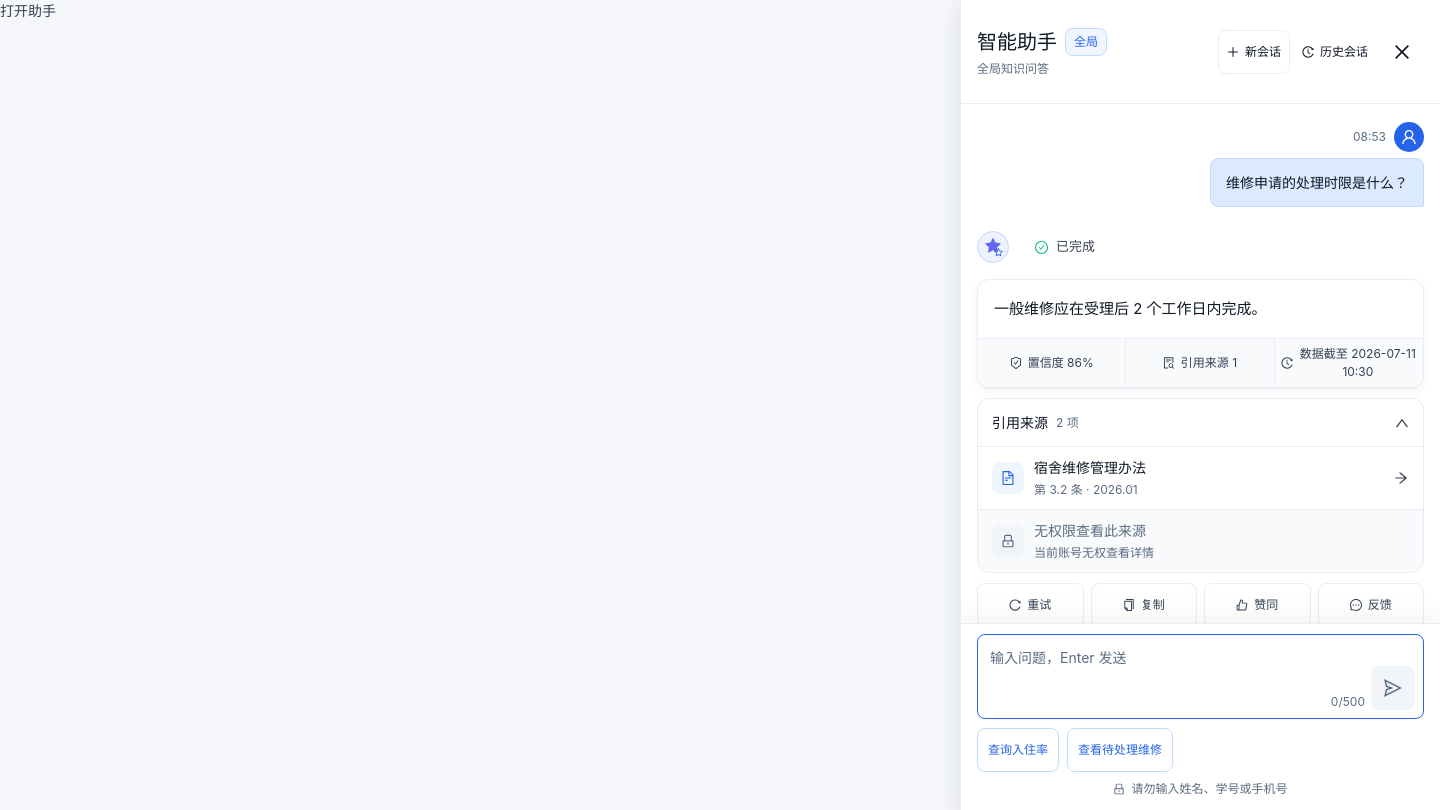
Test case: AiAssistantHost › 引用来源可折叠，拒绝来源不泄露正文
The width and height of the screenshot is (1440, 810).
Expected: the list named "引用来源列表" shows "无权限查看此来源", [1034,522,1146,539]
Expected: the element with class "citation-row--denied" does not show "2026.01"
Click the button with aria-label "收起引用来源" at (1020, 423), box [992,400,1409,446]
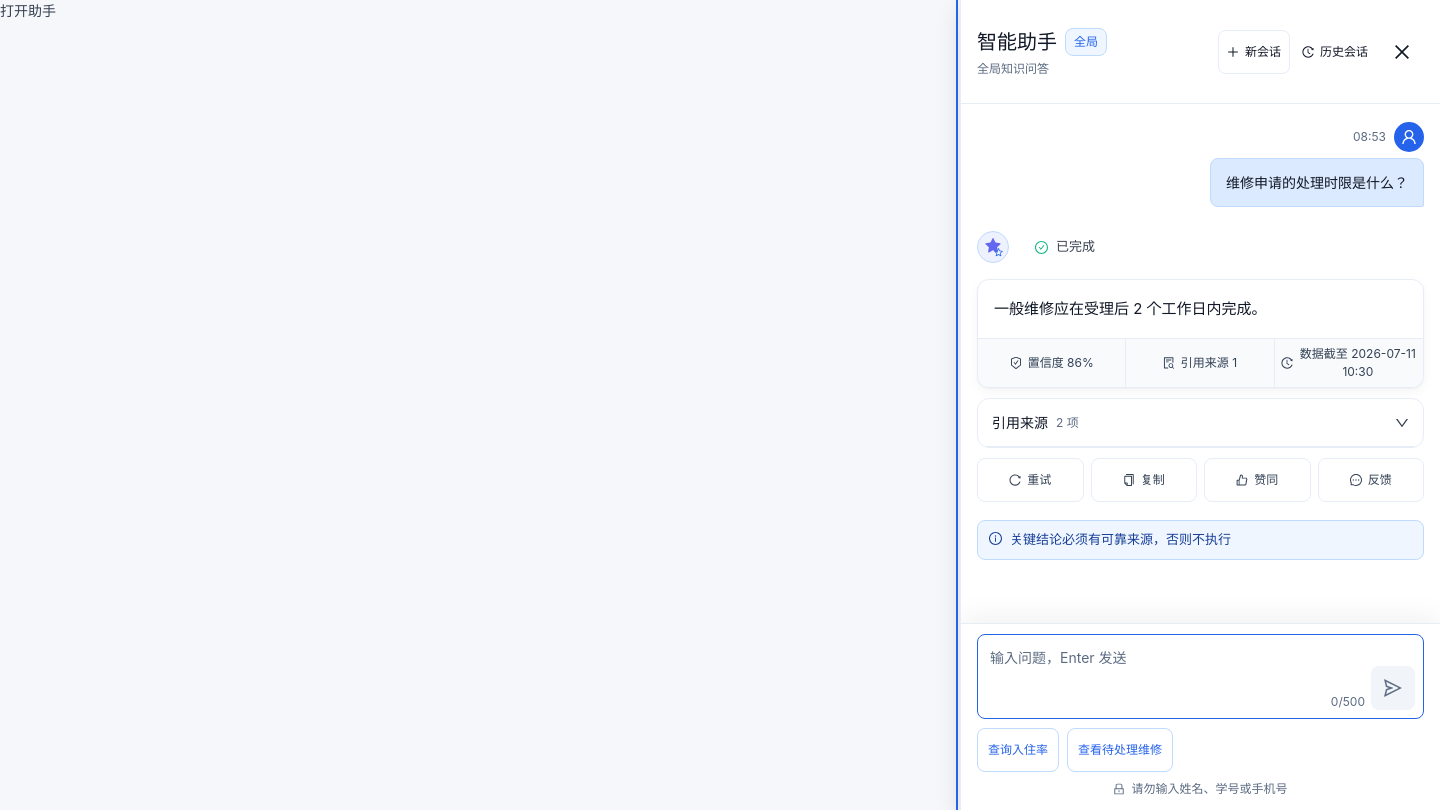
Expected: the button with aria-label "展开引用来源" is collapsed, [992,400,1409,446]
